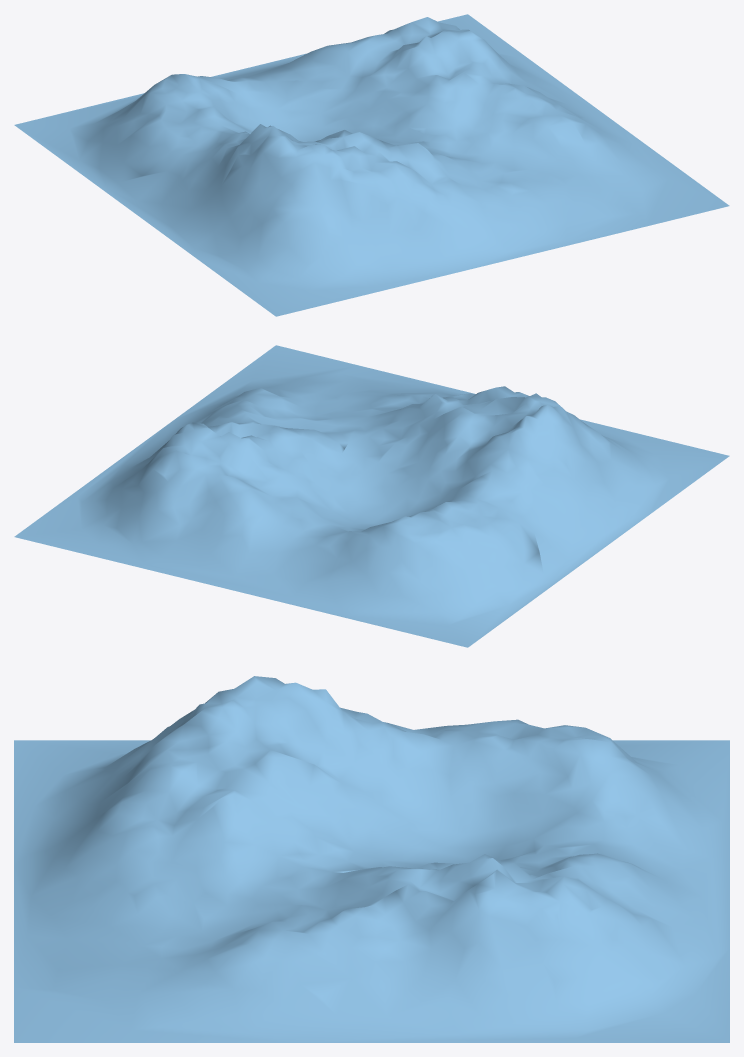
File: distant_mountains1.fbx
3 views of the same model, one above another, from view 1: azimuth 30°, elevation 25°; view 2: azimuth 150°, elevation 25°; view 3: azimuth 270°, elevation 25° (orthographic). The views are drawn at different scales.
Visible parts, largest first — view 1: Landscape; view 2: Landscape; view 3: Landscape.
Part boxes in pixels (x1=…): Landscape: x1=14, y1=14, x2=729, y2=316; Landscape: x1=14, y1=345, x2=729, y2=647; Landscape: x1=14, y1=676, x2=729, y2=1042.
Size of the model in its own units: 200 by 39.16 by 200.
